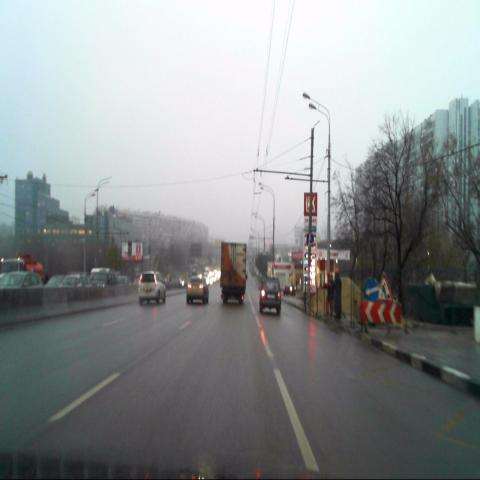1_25: (376, 272, 392, 302)
4_1_2_2: (364, 278, 379, 302)
